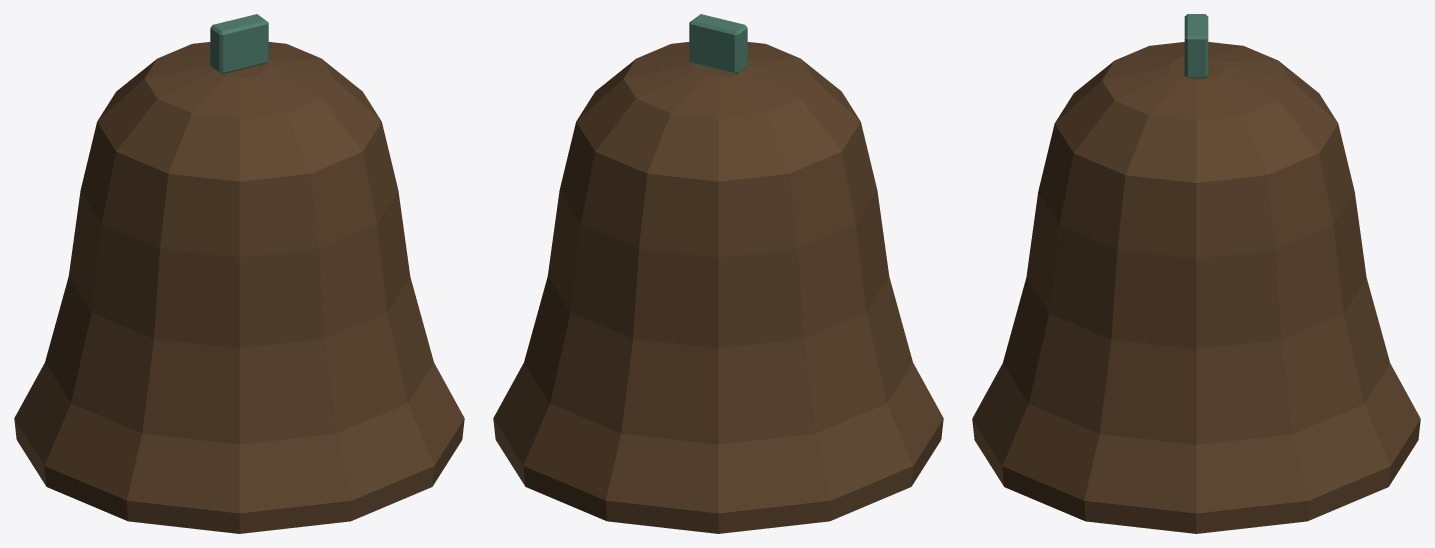
File: Prop_Lab_EchoBell_S15_LOD1.glb
3 renders of one model, left to right at view 1: azimuth 30°, elevation 25°; view 2: azimuth 150°, elevation 25°; view 3: azimuth 270°, elevation 25°, orthographic.
Parts seen in each view (by area): view 1: Prop_Lab_EchoBell_S15; view 2: Prop_Lab_EchoBell_S15; view 3: Prop_Lab_EchoBell_S15.
Boxes of the visible parts, box(x1,y1,x2,y2) form: Prop_Lab_EchoBell_S15: box(14, 14, 464, 533); Prop_Lab_EchoBell_S15: box(493, 14, 943, 533); Prop_Lab_EchoBell_S15: box(972, 14, 1420, 533).
Size of the model in its own units: 0.4894 by 0.5 by 0.4894.
